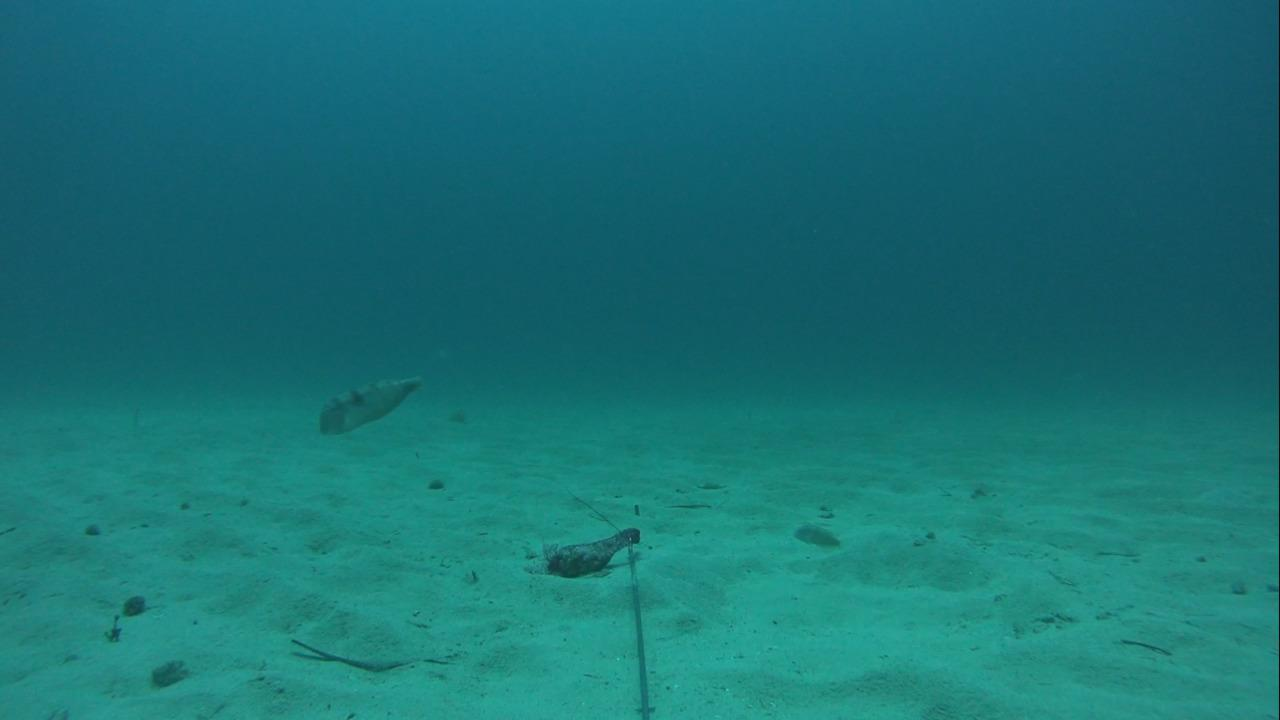raor: (317, 373, 425, 441), (784, 516, 842, 554)
